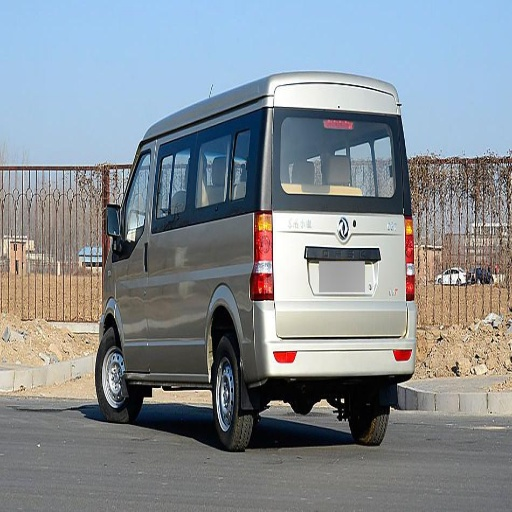back_bumper: (254, 301, 416, 379)
back_left_light: (251, 210, 272, 300)
back_right_door: (192, 113, 253, 205)
trunk: (161, 198, 405, 374)
